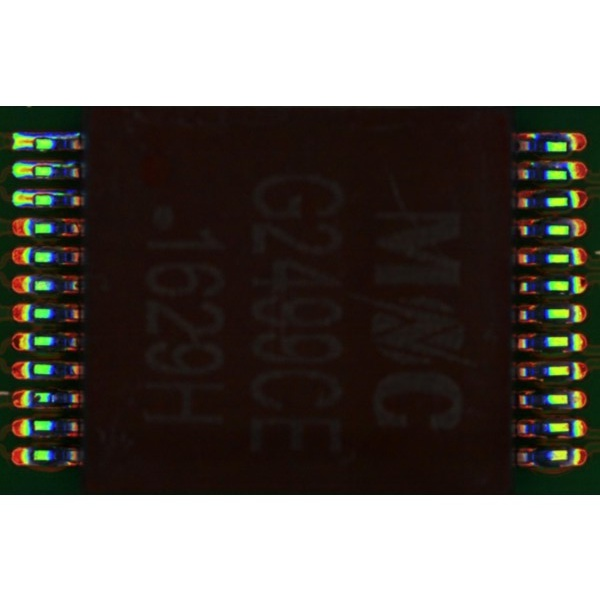Bad_podu: (25, 193, 40, 201), (25, 164, 40, 172), (25, 136, 40, 144)
Bad_qiaojiao: (35, 160, 76, 165), (37, 133, 78, 138), (36, 190, 70, 195)
